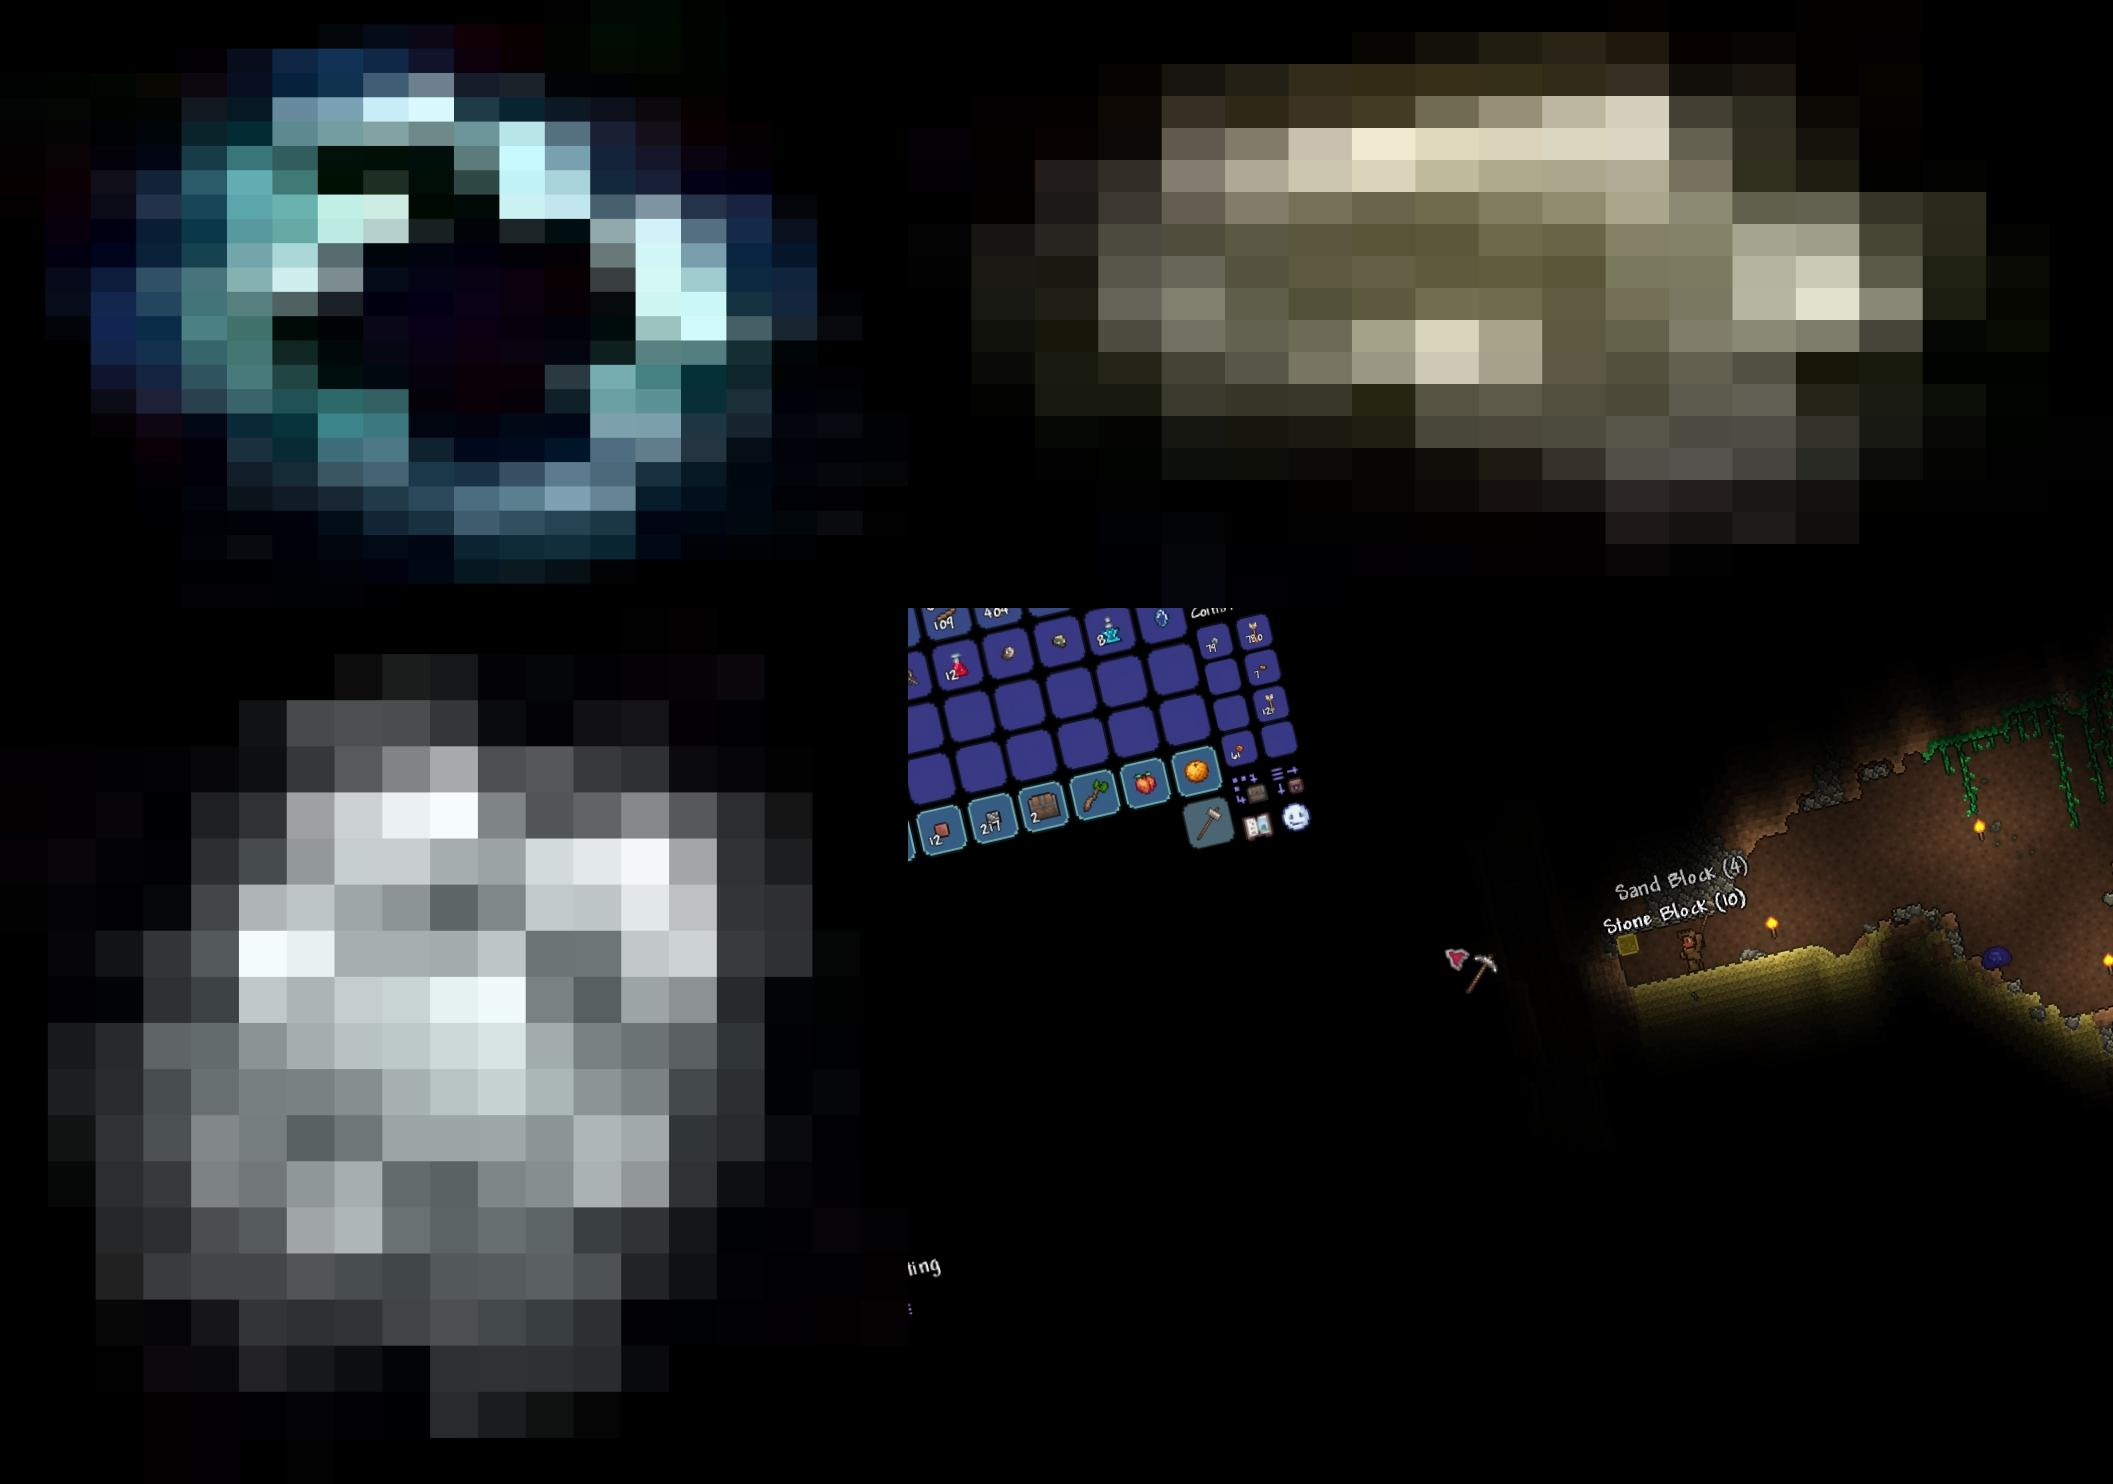lens: (0, 0, 909, 609)
ore: (0, 609, 909, 1484), (909, 0, 2113, 609)
potion: (946, 649, 968, 684)
